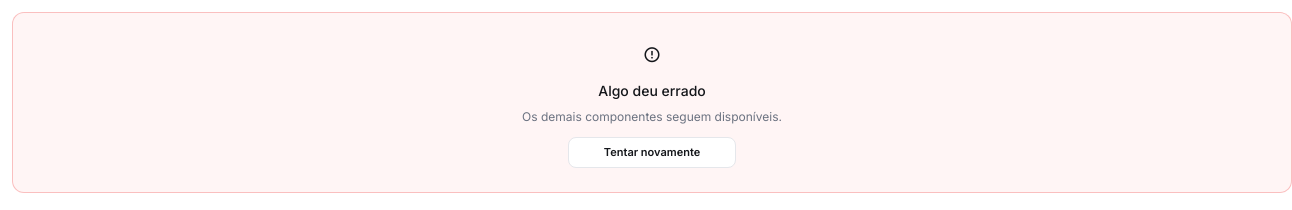
Test: BlocoGestor › "Tentar novamente" do fallback de erro de render remonta o bloco
The width and height of the screenshot is (1292, 210).
Click the button "Tentar novamente" at (652, 152), box [568,137,736,168]
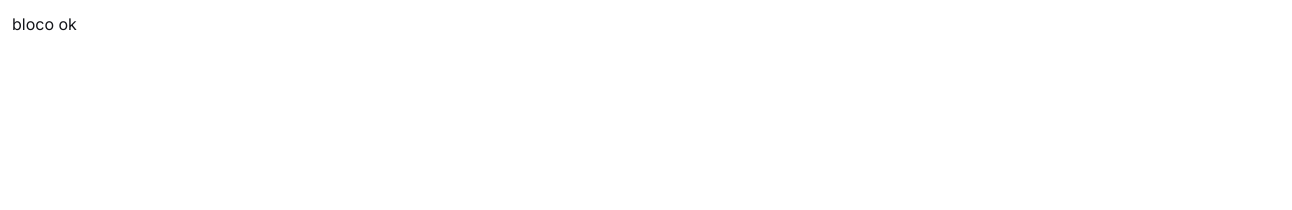
Expected: the text "bloco ok" is shown, [12,14,77,34]
Expected: the message "Algo deu errado Os demais componentes seguem disponíveis. Tentar novamente" is gone
